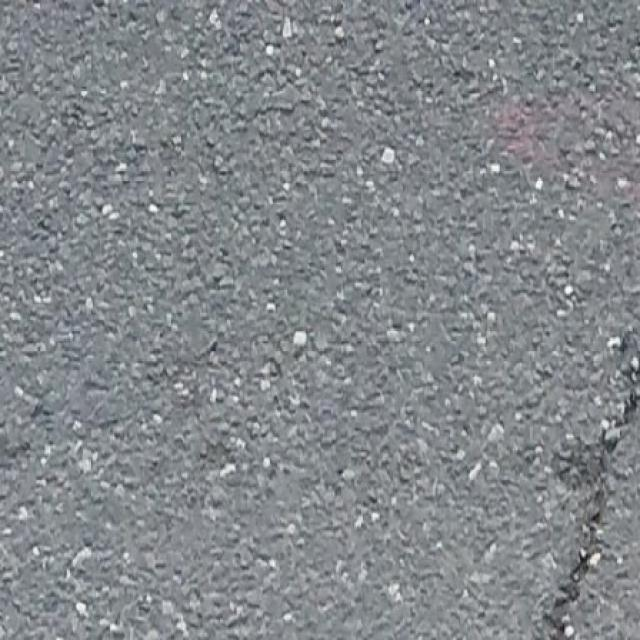Diagonal Crack: (540, 316, 638, 636)
